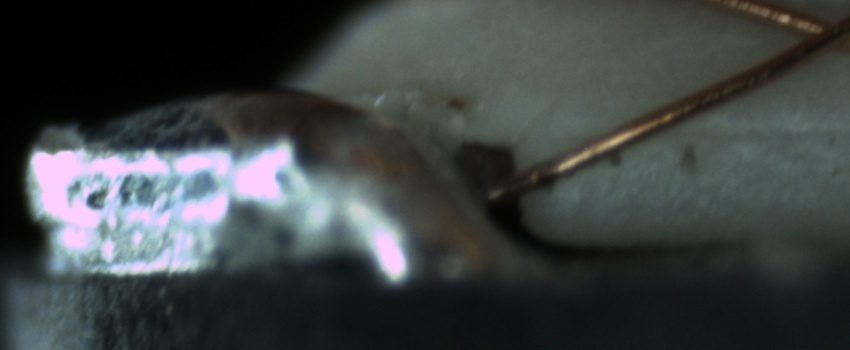CL: (772, 2, 849, 63)
DL: (683, 99, 850, 161)
